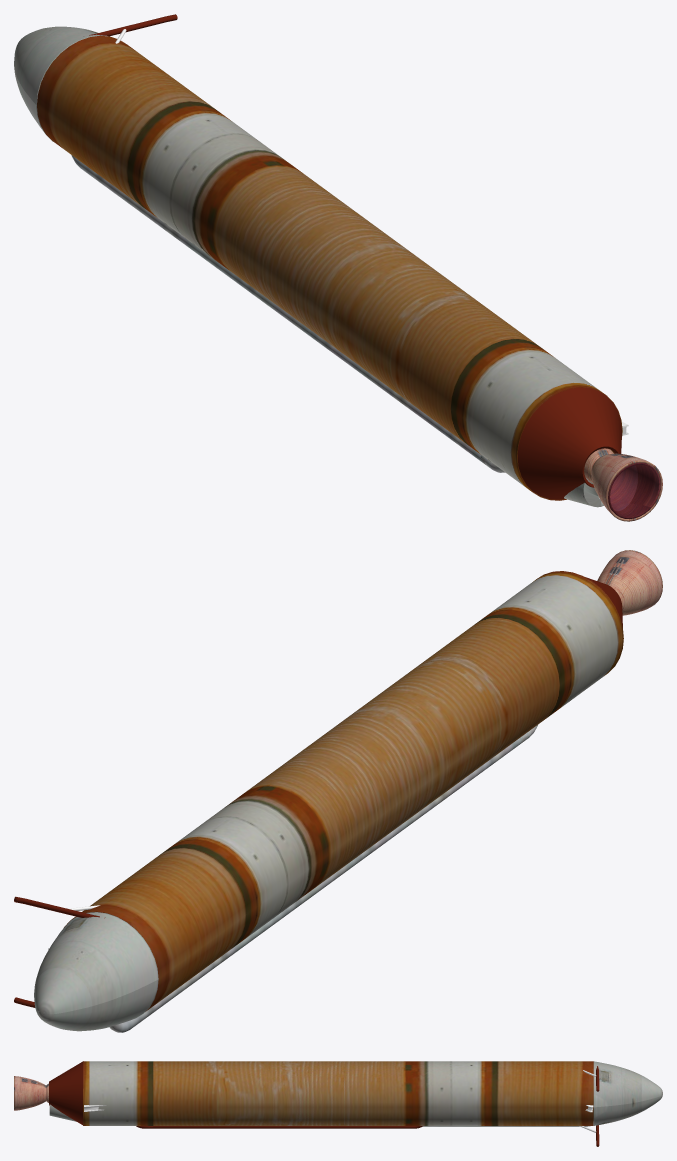
The model's file is deltaivbooster_1.obj.
The picture shows the model from 3 angles, top to bottom: view 1: azimuth 30°, elevation 25°; view 2: azimuth 150°, elevation 25°; view 3: azimuth 270°, elevation 25°; orthographic projection. The views are drawn at different scales.
Visible parts, largest first — view 1: group4, group15, group7, group2, group9, group10; view 2: group4, group2, group7, group10, group3; view 3: group4, group2, group15, group10, group3, group5, group17, group7.
Boxes of the visible parts, box(x1,y1,x2,y2) form: group4: box(37, 35, 622, 500); group15: box(517, 386, 621, 499); group7: box(71, 155, 485, 464); group2: box(14, 26, 107, 105); group9: box(608, 462, 660, 518); group10: box(584, 448, 662, 521); group4: box(64, 571, 623, 1011); group2: box(34, 912, 158, 1014); group7: box(109, 737, 524, 1032); group10: box(597, 550, 662, 615); group3: box(34, 979, 158, 1031); group4: box(83, 1061, 593, 1125); group2: box(593, 1061, 662, 1107); group15: box(49, 1061, 83, 1124); group10: box(14, 1076, 48, 1110); group3: box(593, 1094, 662, 1125); group5: box(150, 1126, 422, 1128); group17: box(49, 1104, 76, 1121); group7: box(423, 1126, 590, 1126).
Size of the model in its own units: 6.93 by 5.69 by 51.04.
Materials: 8 (5 with a texture image).
